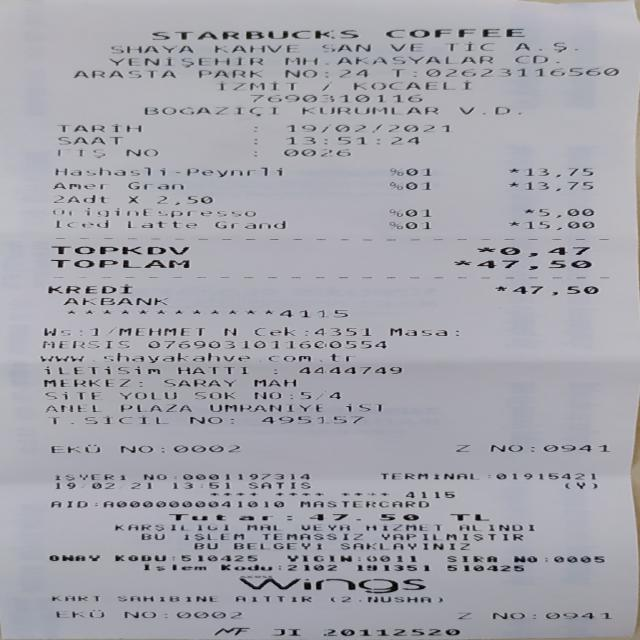text: (38, 350, 353, 362), (239, 576, 423, 594), (51, 205, 254, 218), (147, 338, 386, 349), (426, 66, 622, 77), (149, 29, 355, 39), (108, 56, 262, 68), (248, 93, 421, 103), (340, 54, 492, 65), (50, 244, 187, 256), (301, 104, 437, 116), (101, 499, 282, 508), (286, 123, 448, 133), (385, 27, 523, 38), (142, 105, 274, 116), (50, 165, 171, 177), (350, 80, 469, 92), (50, 258, 187, 268), (475, 259, 589, 271), (322, 626, 457, 636), (284, 136, 417, 146), (380, 532, 521, 541), (259, 413, 362, 425), (208, 402, 320, 413), (298, 499, 426, 508), (70, 68, 174, 79), (63, 295, 167, 306), (181, 472, 307, 481), (185, 166, 288, 177), (114, 522, 226, 532), (300, 364, 400, 375), (116, 325, 204, 337), (308, 512, 424, 521), (339, 542, 468, 550), (212, 42, 296, 54), (108, 43, 191, 55), (508, 166, 590, 178), (498, 246, 587, 257), (42, 338, 128, 349), (43, 377, 128, 388), (261, 532, 362, 541), (510, 285, 600, 295), (54, 481, 154, 490), (493, 471, 592, 480), (173, 512, 272, 521), (379, 472, 476, 481), (46, 284, 132, 294), (83, 415, 169, 425), (365, 522, 449, 532), (215, 81, 298, 91), (524, 218, 592, 230), (329, 596, 445, 603), (163, 377, 235, 388), (116, 594, 214, 602), (233, 541, 320, 550), (178, 364, 248, 375), (120, 402, 190, 413), (59, 123, 135, 133), (180, 553, 255, 563), (456, 104, 518, 116), (459, 522, 533, 532), (197, 67, 258, 79), (155, 193, 210, 206), (282, 308, 347, 319), (173, 442, 237, 453), (386, 326, 449, 337), (446, 563, 522, 572), (510, 42, 578, 52), (356, 563, 430, 572), (56, 135, 122, 145), (525, 180, 591, 190), (176, 609, 240, 619), (317, 326, 370, 338), (44, 402, 96, 414), (143, 562, 205, 572), (127, 219, 195, 228), (47, 194, 108, 204), (126, 180, 181, 191), (281, 148, 348, 157), (234, 594, 308, 602), (320, 42, 369, 54), (445, 41, 494, 53), (44, 390, 100, 400), (119, 390, 175, 400), (287, 554, 348, 563), (215, 220, 283, 228), (538, 208, 592, 218), (183, 532, 242, 541), (52, 180, 104, 190), (55, 148, 102, 159), (49, 443, 96, 454), (52, 473, 125, 480), (114, 553, 164, 563), (445, 554, 495, 564), (254, 325, 295, 337), (404, 489, 453, 499), (301, 522, 349, 532), (286, 562, 334, 572), (54, 608, 102, 618), (512, 52, 546, 66), (542, 444, 609, 451), (54, 219, 106, 228), (364, 554, 416, 563), (220, 563, 270, 572), (171, 481, 227, 489), (552, 555, 608, 563), (388, 41, 422, 54), (49, 553, 98, 562), (253, 377, 293, 388), (297, 390, 339, 400), (248, 481, 308, 488), (41, 326, 82, 336), (194, 390, 234, 400), (544, 612, 610, 618), (283, 66, 315, 78), (282, 56, 320, 66), (189, 414, 220, 426), (124, 147, 156, 158), (118, 443, 150, 454), (448, 512, 486, 521), (246, 522, 280, 532), (337, 67, 367, 78), (51, 499, 87, 508), (123, 608, 154, 618), (52, 594, 96, 601), (405, 218, 430, 230), (404, 166, 429, 177), (49, 414, 71, 426), (254, 390, 280, 400), (562, 482, 598, 489), (270, 628, 300, 636), (404, 208, 432, 216), (490, 444, 521, 451), (404, 181, 428, 190), (140, 532, 163, 541), (492, 612, 521, 619), (194, 541, 216, 550), (453, 259, 469, 271), (140, 473, 167, 480), (477, 246, 494, 256), (320, 80, 334, 92), (388, 218, 402, 230), (384, 208, 404, 216), (392, 66, 405, 78), (221, 325, 234, 337), (512, 556, 538, 562), (410, 67, 422, 78), (388, 181, 402, 190), (508, 218, 518, 230), (110, 325, 119, 337), (494, 285, 504, 295), (507, 180, 516, 191), (90, 325, 98, 337), (304, 325, 312, 337), (456, 444, 469, 451), (523, 208, 532, 218), (388, 166, 396, 177), (128, 193, 135, 205), (456, 612, 468, 619), (287, 390, 295, 400), (92, 499, 100, 508), (228, 414, 233, 426), (553, 52, 557, 66), (454, 330, 461, 338), (137, 377, 142, 388), (356, 554, 362, 563), (322, 66, 326, 78), (252, 126, 260, 132), (250, 148, 254, 158), (273, 364, 276, 375), (252, 136, 255, 146), (160, 443, 162, 454), (544, 554, 546, 564), (278, 562, 280, 572), (164, 609, 166, 619), (173, 472, 175, 481), (532, 444, 534, 451), (532, 612, 533, 619)
